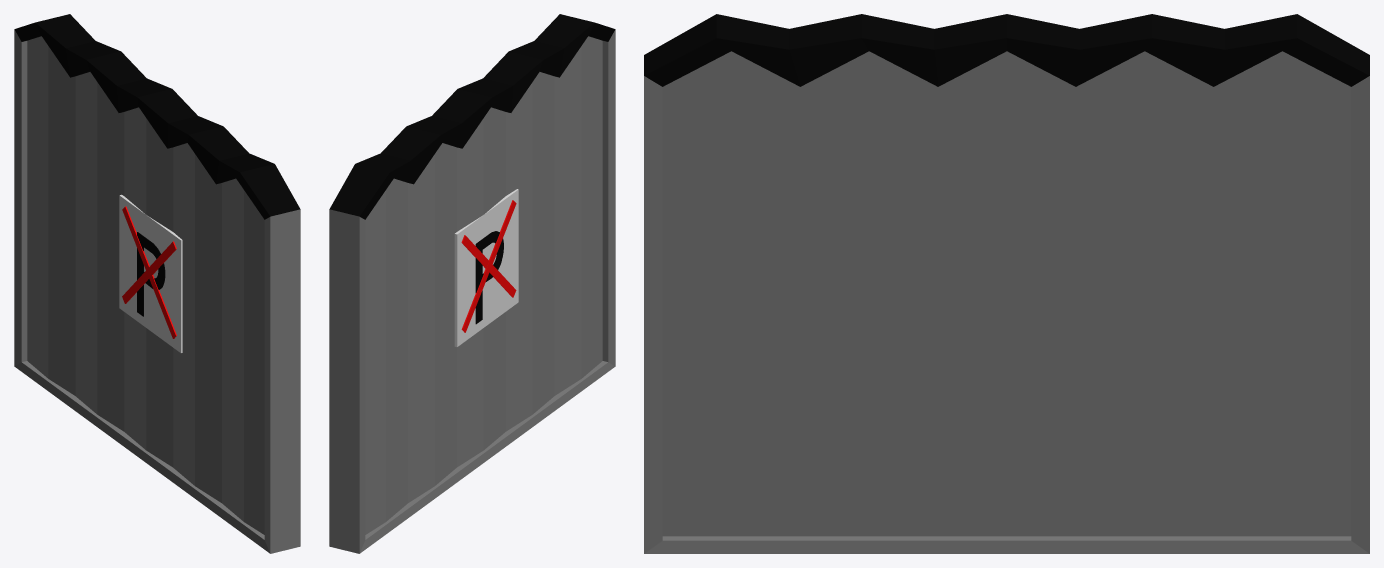
File: Door.fbx
3 renders of one model, left to right at view 1: azimuth 30°, elevation 25°; view 2: azimuth 150°, elevation 25°; view 3: azimuth 270°, elevation 25°, orthographic. The views are drawn at different scales.
Visible parts, largest first — view 1: Door; view 2: Door; view 3: Door.
Part boxes in pixels (x1=…): Door: x1=14, y1=14, x2=300, y2=553; Door: x1=329, y1=14, x2=615, y2=553; Door: x1=644, y1=14, x2=1369, y2=553.
Bounding box in the file's own units: 76.39 × 761 × 971.
